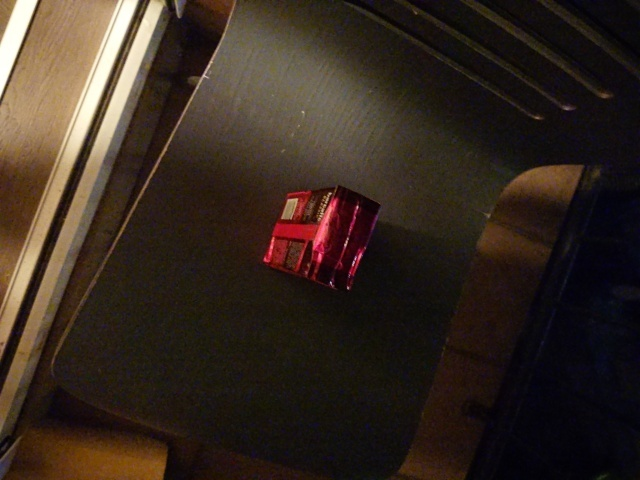Barcaffe Classic Original 225g: (260, 184, 383, 296)
